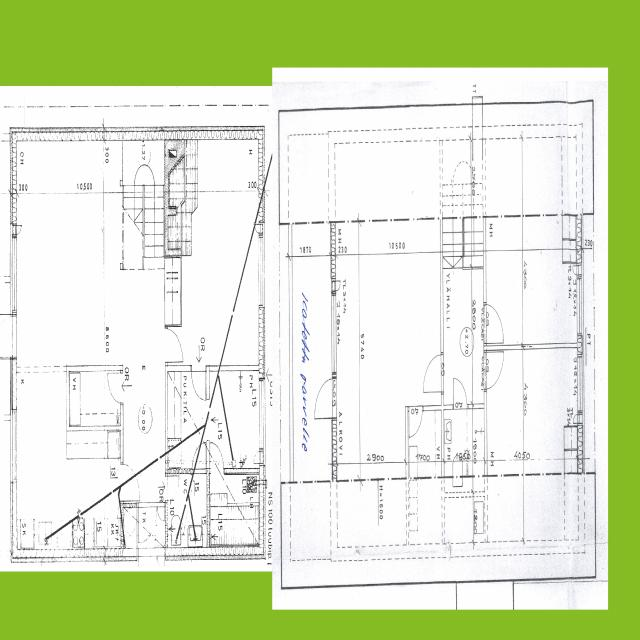door: (309, 376, 337, 418), (137, 548, 158, 602), (421, 350, 444, 392), (120, 462, 142, 500), (138, 502, 157, 546), (484, 304, 505, 343), (484, 352, 505, 390), (165, 328, 185, 362), (0, 318, 17, 357), (191, 365, 206, 401), (106, 372, 123, 403), (191, 439, 206, 474), (409, 404, 423, 440), (210, 440, 224, 474), (454, 377, 467, 411), (165, 476, 180, 501), (158, 547, 164, 573), (157, 502, 164, 522)
